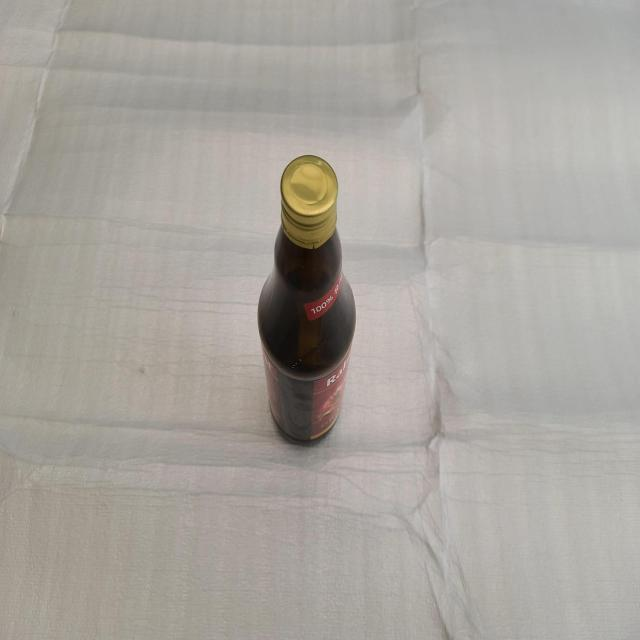glass: (258, 154, 356, 441)
